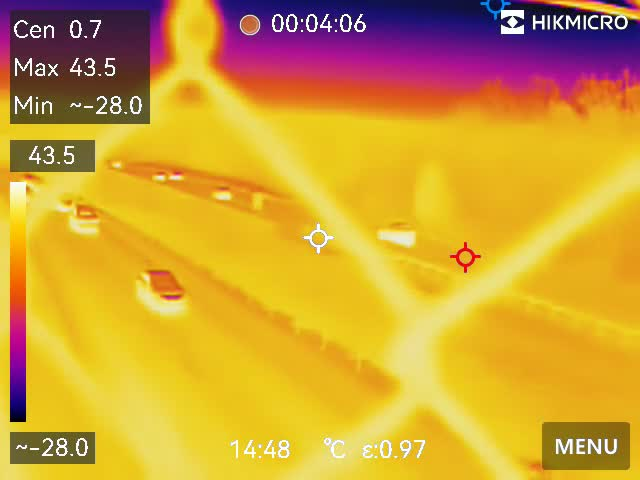vehicle: (133, 262, 186, 304), (375, 219, 420, 247), (67, 203, 102, 234), (202, 185, 229, 201), (149, 171, 167, 184), (168, 170, 186, 181)
